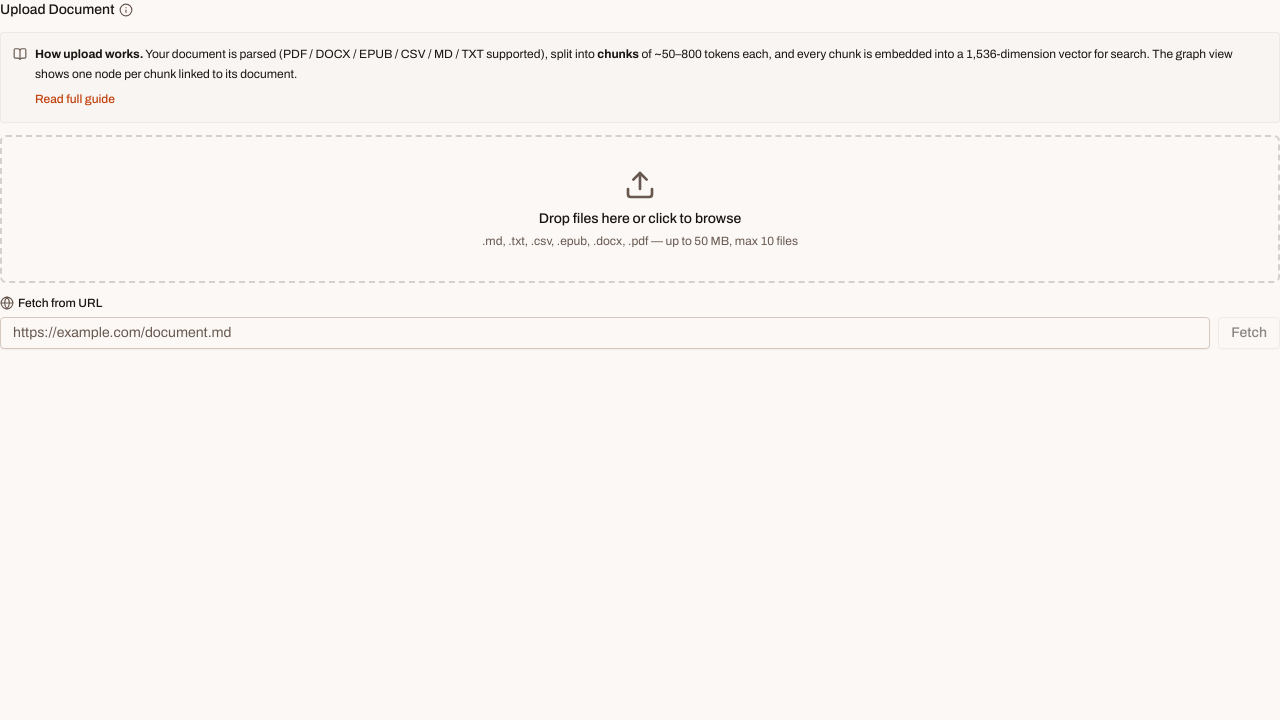
Test case: DocumentUploadZone › opens the "Read full guide" popover and renders UploadGuideBody content
click the "Read full guide" button to open the popover
Click the button "Read full guide": click(75, 99) [35,91,115,107]
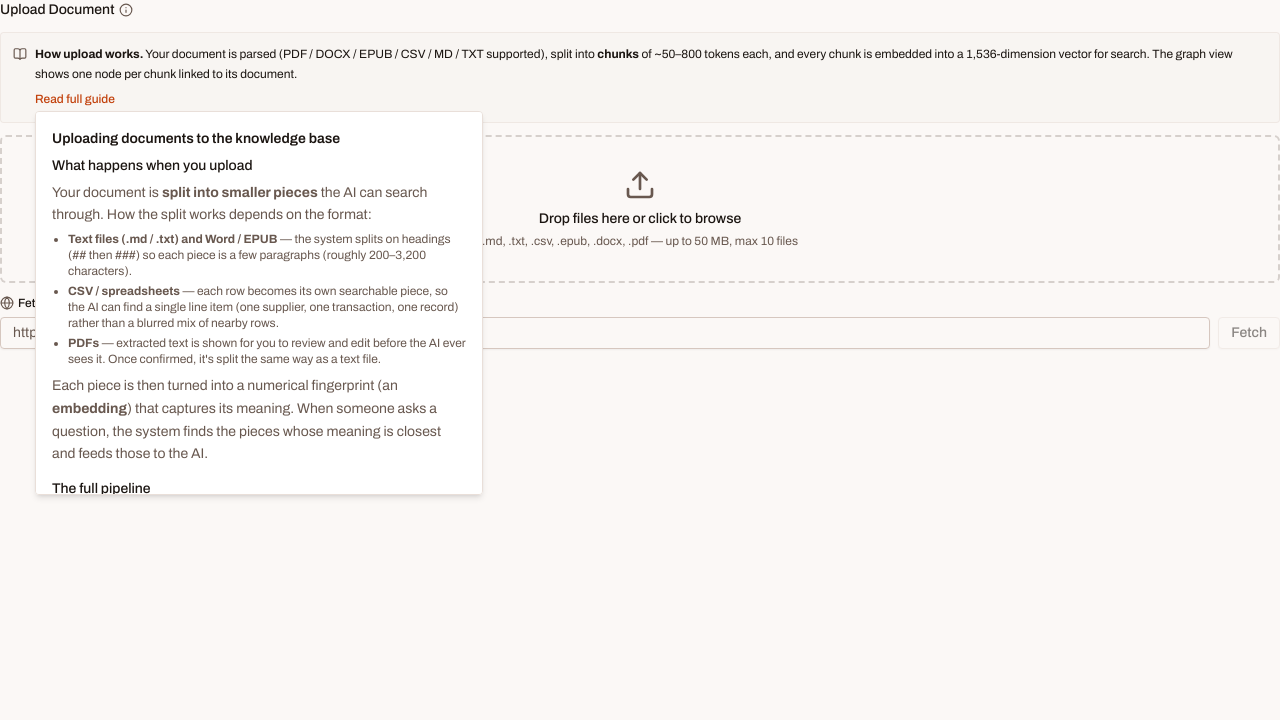
Expected: the text "Uploading documents to the knowledge base" is shown, [52,131,340,146]
